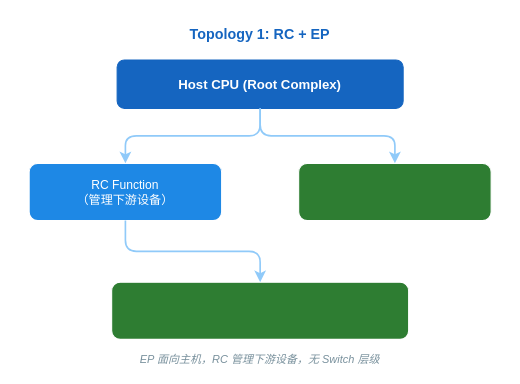
This 520x384 diagram has some shape labels left out. The centre of each missing label's shape, as x and y in pixels:
Downstream Devices （由 RC 管理）: the point at 260,310
EP Functions (PF0, PF1, VF...): the point at 394,191
